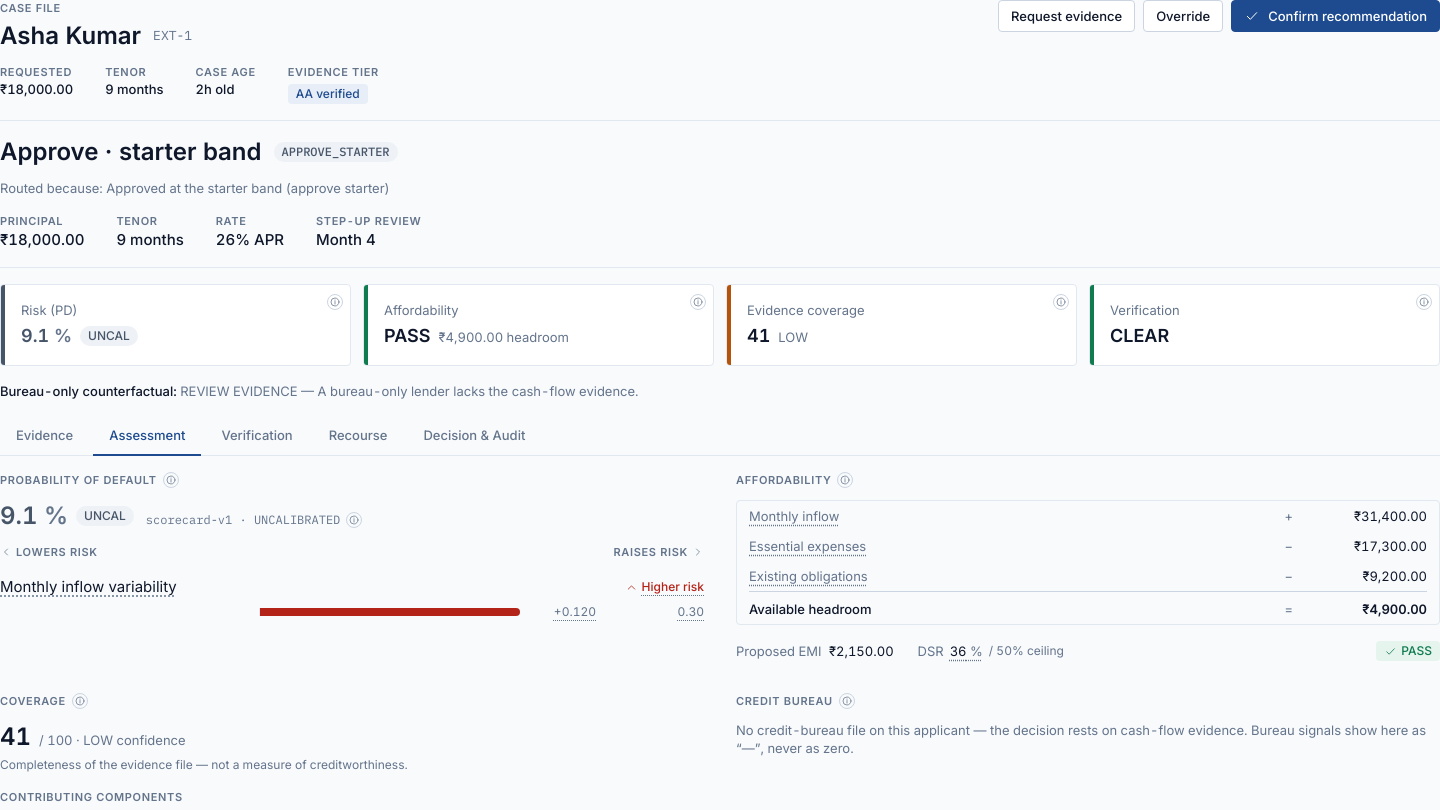
Scenario: CaseFilePage › opens the drawer on a number click and restores focus on close
Expected: the text "APPROVE_STARTER" is shown, left=274, top=142, right=398, bottom=162
What coordinates should you click on to do the following:
click the button "Monthly inflow variability Higher risk +0.120 0.30"
I would click on:
 (88, 586)
Its box is left=0, top=576, right=704, bottom=620.
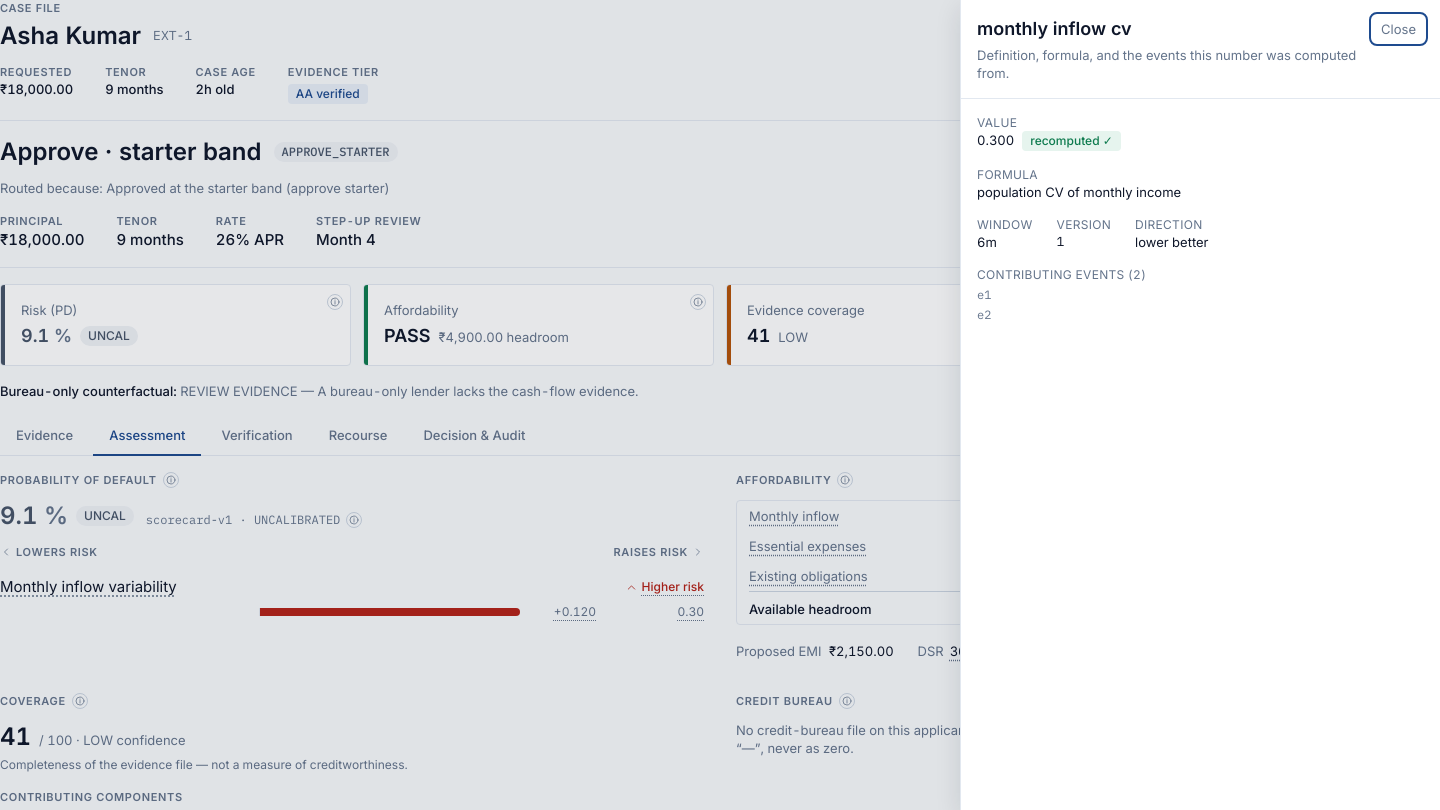
Expected: the text "population CV of monthly income" is shown, left=977, top=184, right=1181, bottom=200
What coordinates should you click on to do the following:
click the button "Close"
I would click on:
 (1399, 29)
Its box is left=1373, top=16, right=1424, bottom=42.
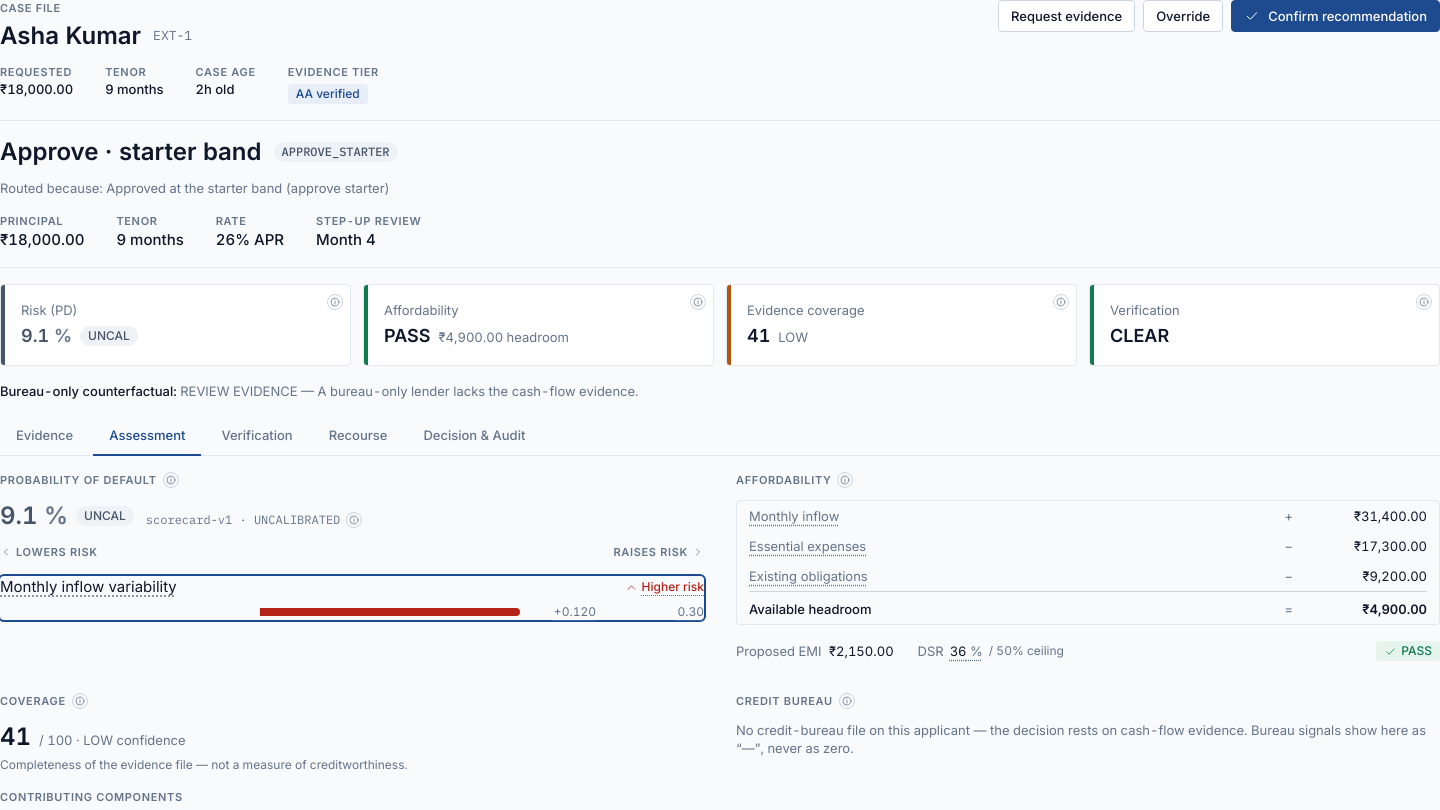
Expected: the dialog is gone
